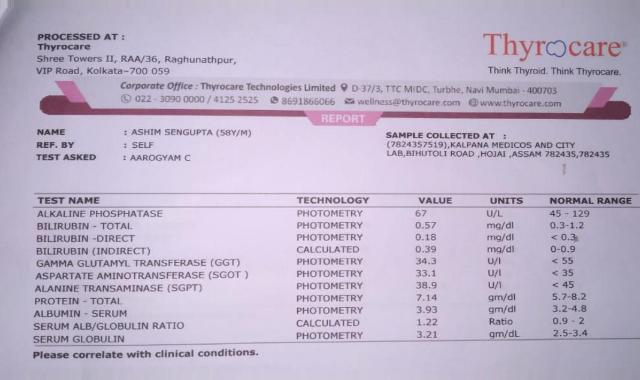Name: (128, 126, 254, 138)
Ref_By: (131, 141, 157, 150)
Reference_Range: (542, 206, 608, 341)
Technology: (290, 207, 372, 345)
Test_Asked: (131, 152, 192, 166)
Test_Name: (32, 206, 260, 347)
Unit: (479, 206, 526, 339)
Value: (407, 206, 451, 340)
